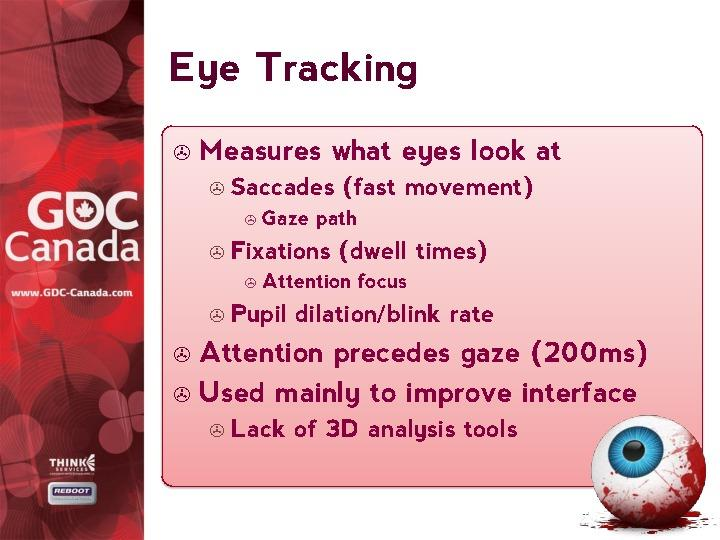paragraph: (170, 131, 675, 458)
title: (161, 39, 430, 99)
